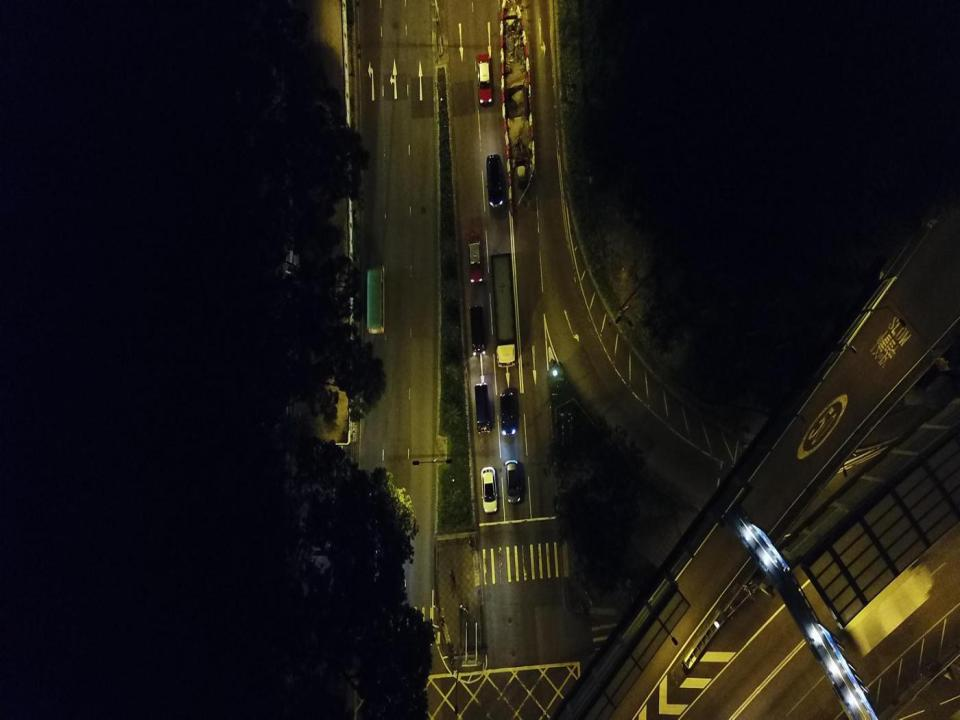bus: (366, 263, 386, 335)
car: (486, 154, 504, 208), (476, 53, 494, 104), (480, 466, 498, 513), (467, 232, 483, 283), (504, 459, 522, 504), (499, 391, 517, 435)
truck: (491, 252, 516, 367), (474, 383, 491, 434)
van: (468, 304, 486, 356)
